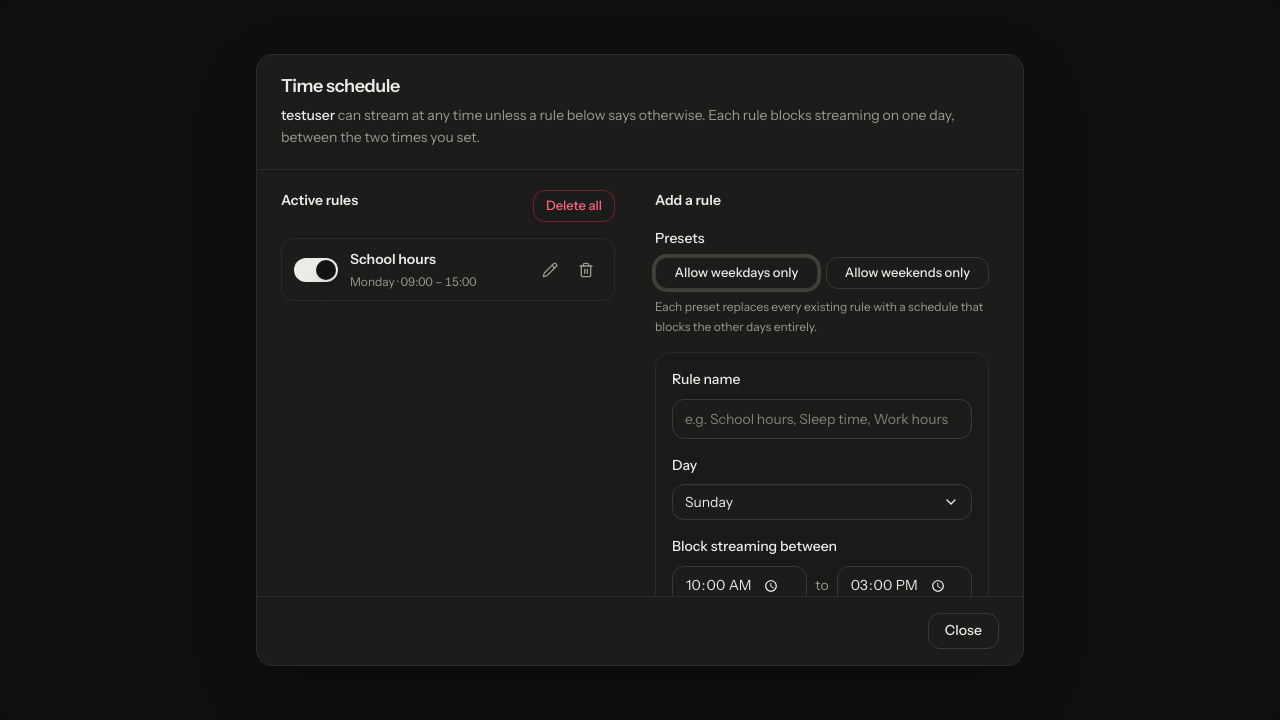
Test case: TimeRuleModal editing a rule › opens an editor
The image size is (1280, 720).
Click the button named "Edit": x=550, y=270 [534,254,566,286]
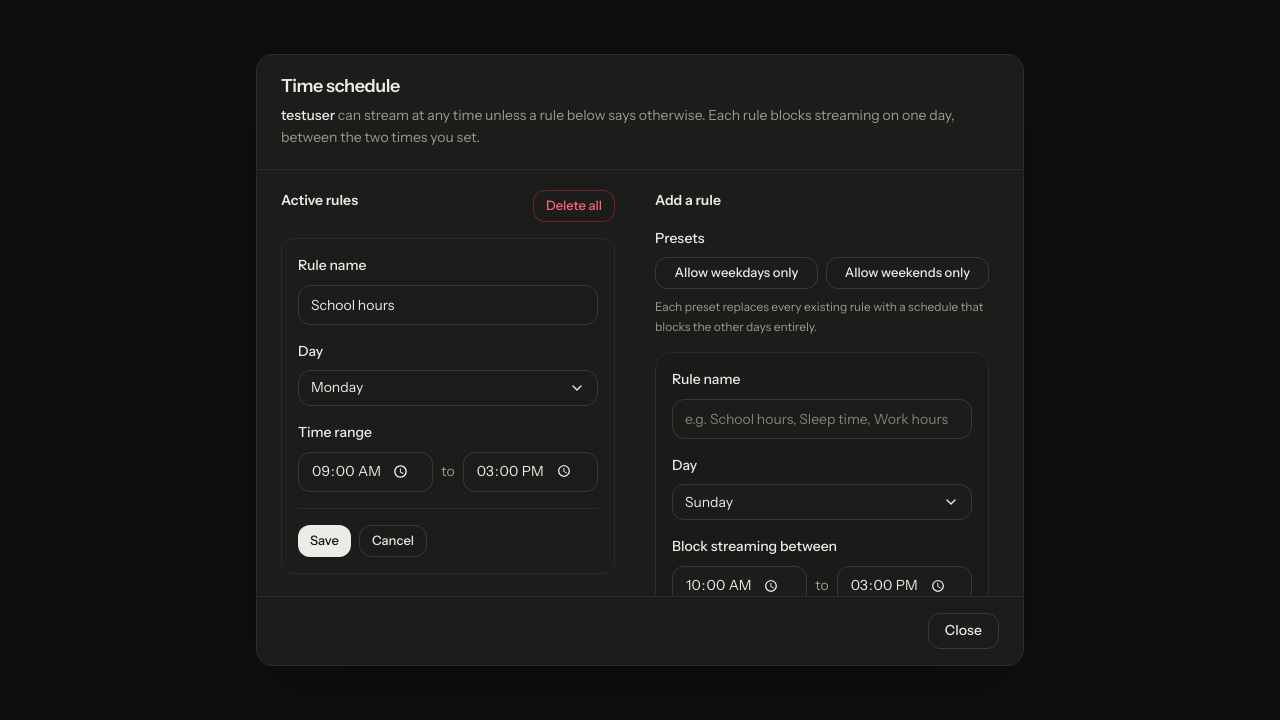
Check: the field with placeholder "Rule name" holds "School hours", box [298,285,598,325]
